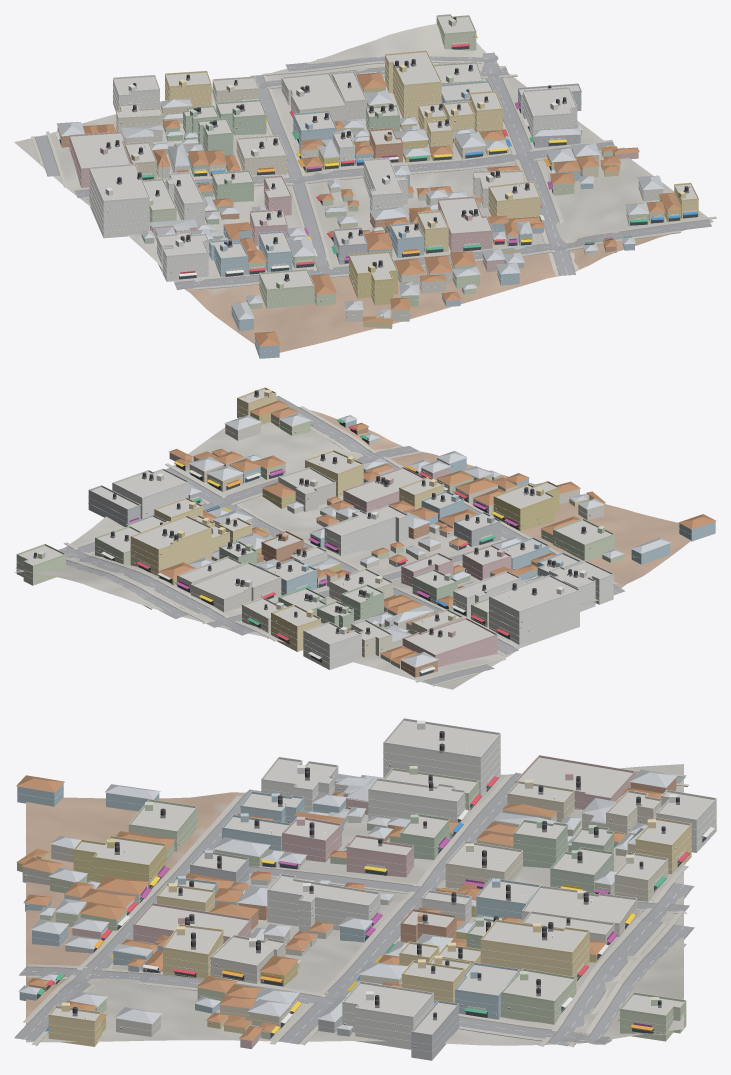
3 views of the same model, one above another, from view 1: azimuth 30°, elevation 25°; view 2: azimuth 150°, elevation 25°; view 3: azimuth 270°, elevation 25° (orthographic). The views are drawn at different scales.
Parts seen in each view (by area): view 1: Buildings-col, Terrain-col, Details, Roads-col, Sidewalks-col; view 2: Buildings-col, Details, Terrain-col, Roads-col, Sidewalks-col; view 3: Buildings-col, Details, Terrain-col, Roads-col, Sidewalks-col.
Boxes of the visible parts, x1,y1,x2,y2 form: Buildings-col: (56, 16, 698, 358); Terrain-col: (14, 24, 713, 352); Details: (55, 14, 698, 352); Roads-col: (34, 52, 711, 289); Sidewalks-col: (31, 59, 716, 289); Buildings-col: (16, 389, 716, 677); Details: (16, 387, 715, 676); Terrain-col: (14, 406, 690, 689); Roads-col: (58, 395, 624, 684); Sidewalks-col: (15, 406, 617, 686); Buildings-col: (16, 720, 716, 1060); Details: (17, 718, 716, 1052); Terrain-col: (26, 764, 683, 1045); Roads-col: (14, 772, 694, 1046); Sidewalks-col: (23, 768, 688, 1047).
Size of the model in its own units: 281 by 36.17 by 274.
